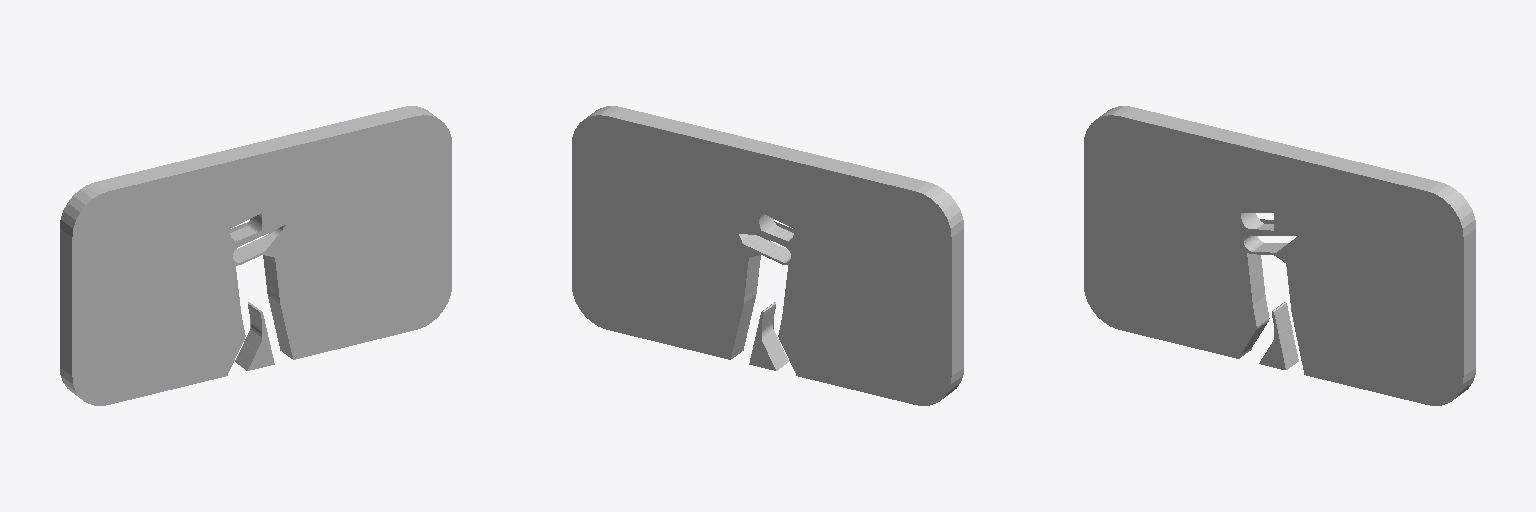
The picture shows the model from 3 angles: view 1: azimuth 30°, elevation 25°; view 2: azimuth 150°, elevation 25°; view 3: azimuth 330°, elevation 25°; orthographic projection.
Visible parts, largest first — view 1: POSE15; view 2: POSE15; view 3: POSE15.
Boxes of the visible parts, <box> form: POSE15: <box>60,106,451,405</box>; POSE15: <box>572,106,963,405</box>; POSE15: <box>1084,106,1475,405</box>.
Bounding box in the file's own units: 12 × 6.45 × 0.7.